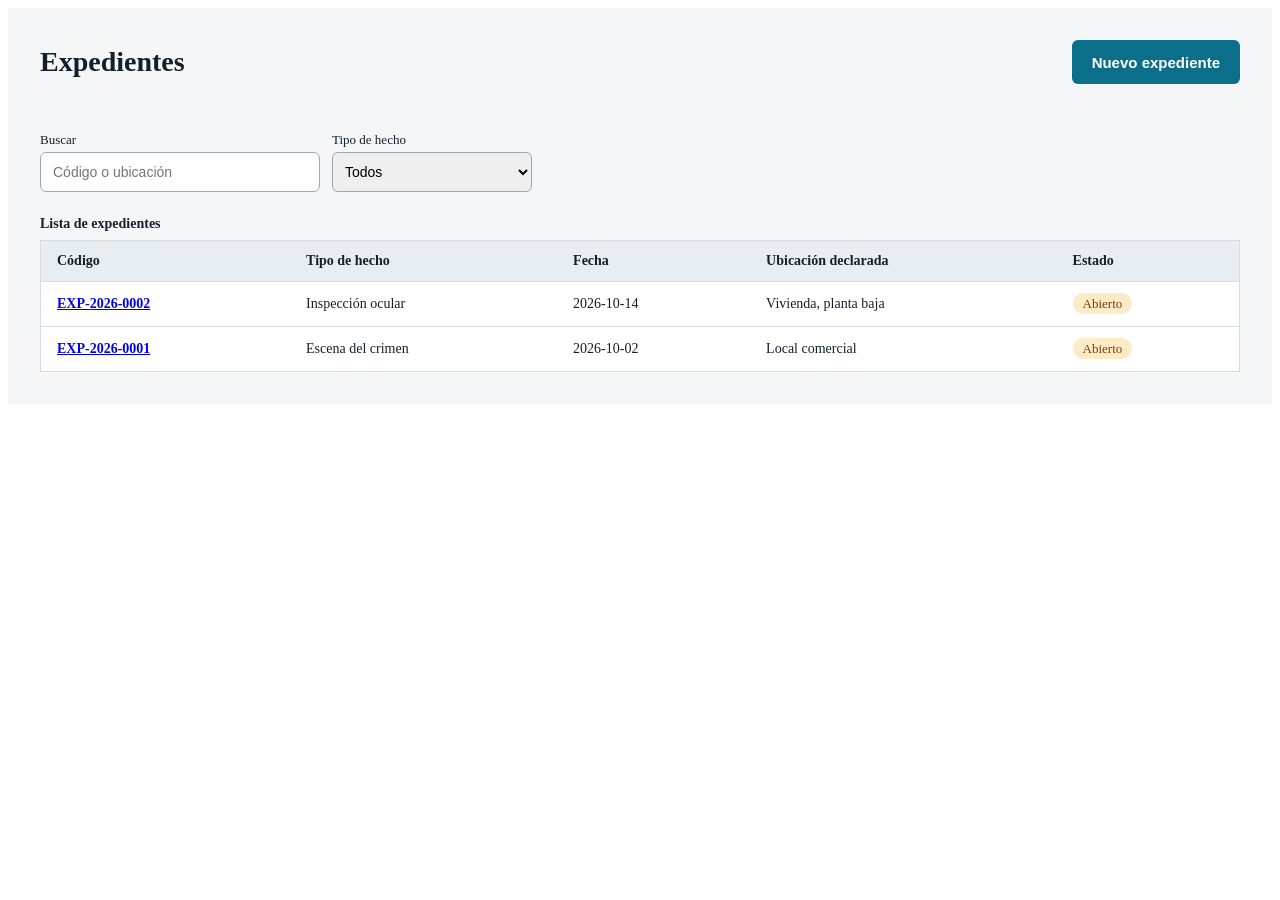
CaseListPage › creates a case and adds its row at the top with the returned code
This screenshot has width=1280, height=900.
Check: the table is shown, box [40, 216, 1240, 372]
Click the button "Nuevo expediente" at (1156, 62), box [1072, 40, 1240, 84]
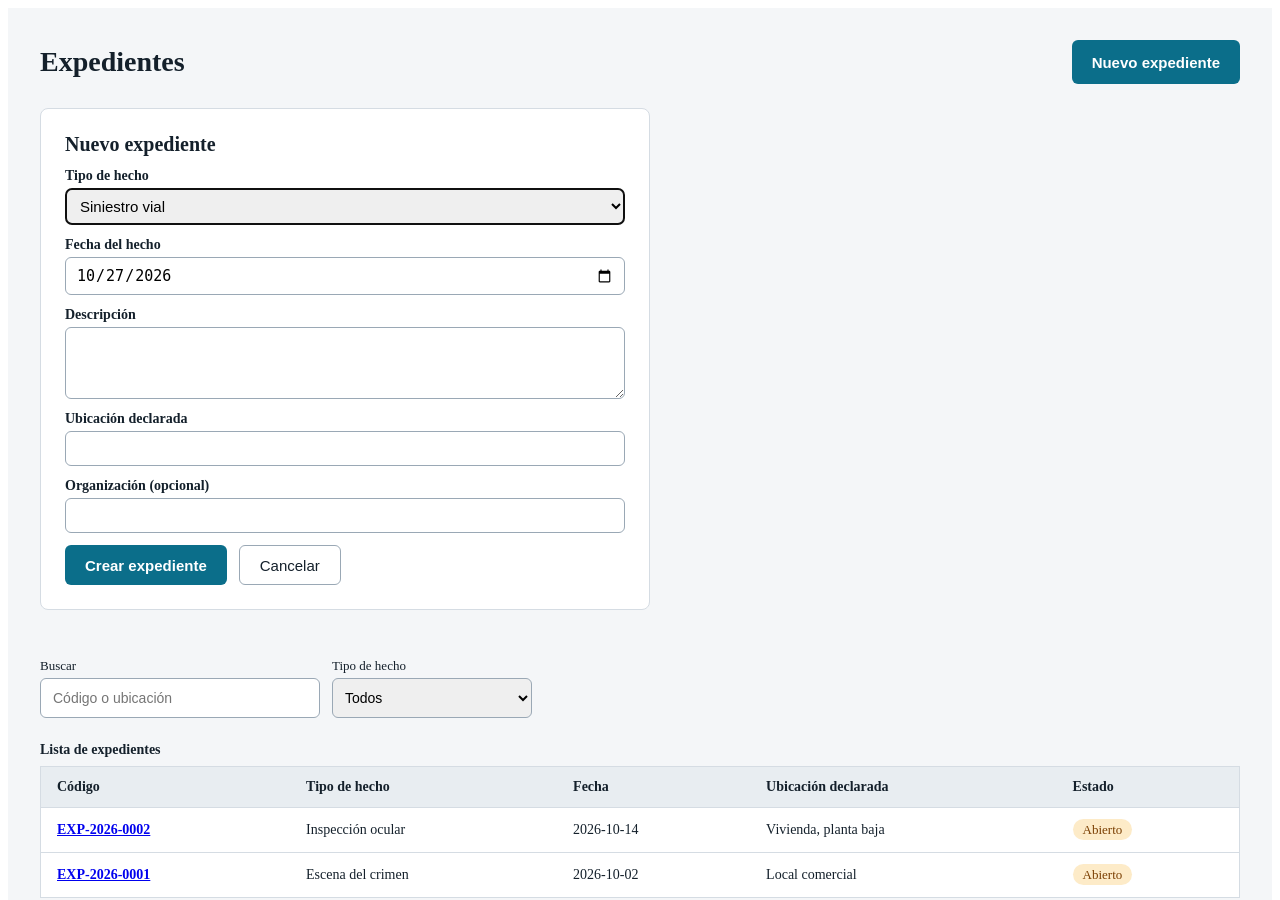
Check: the date field labelled "Fecha del hecho" holds "2026-10-27"
Type "2026-10-21" into the date field labelled "Fecha del hecho" at (345, 276), box [65, 257, 625, 295]
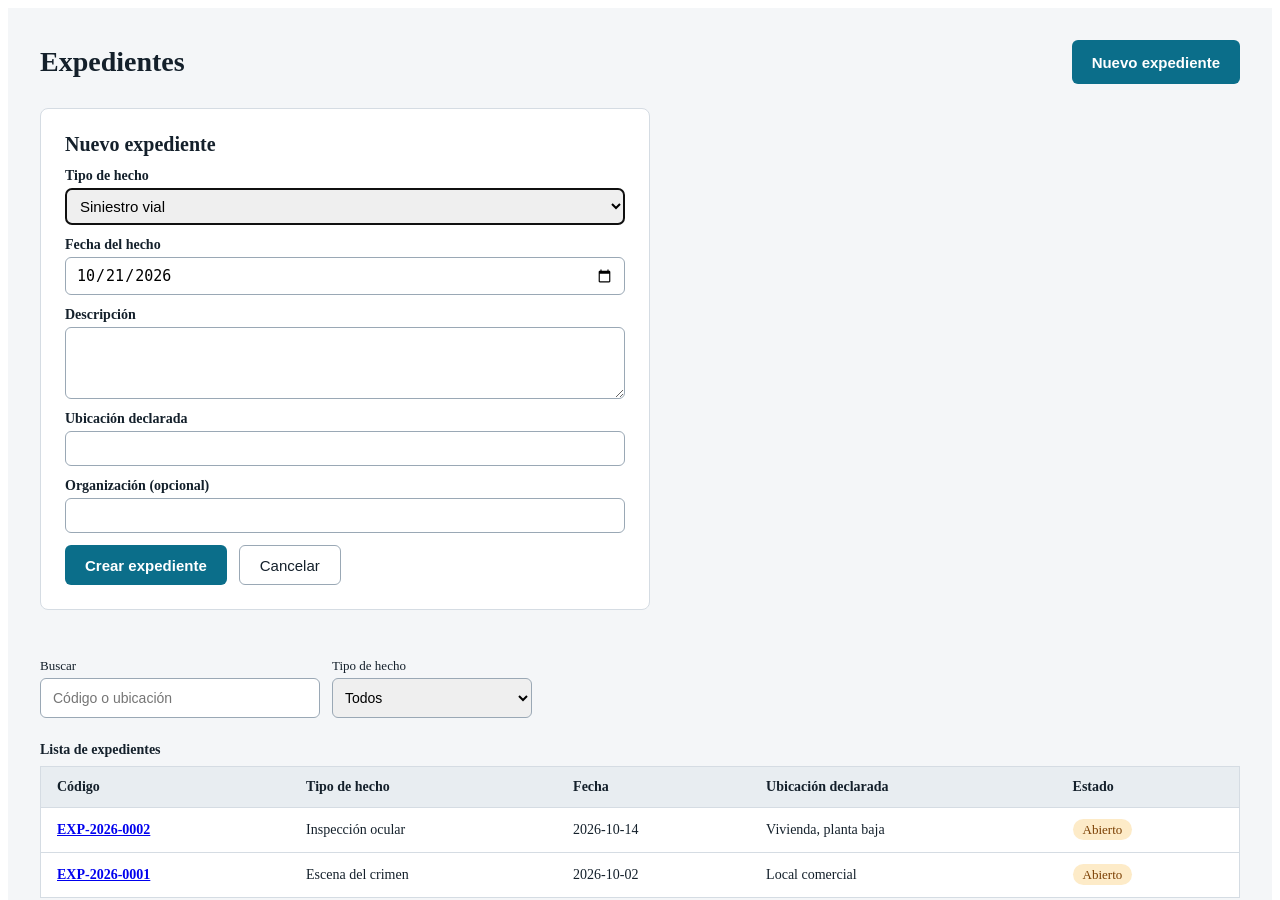
Type "Colisión entre dos vehículos" into the text box labelled "Descripción" at (345, 363), box [65, 327, 625, 399]
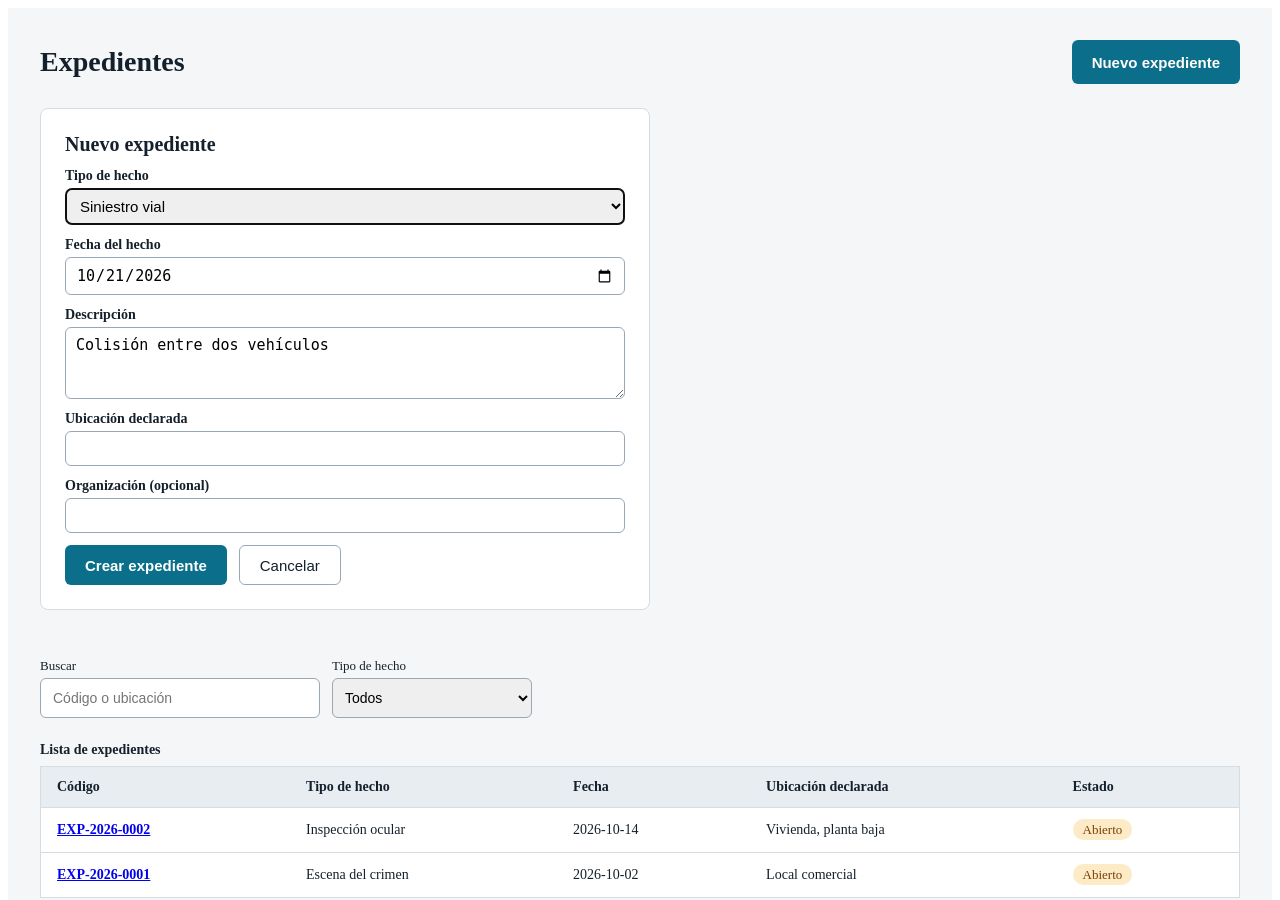
Type "Av. Principal y Calle 4" into the field labelled "Ubicación declarada" at (345, 448), box [65, 431, 625, 466]
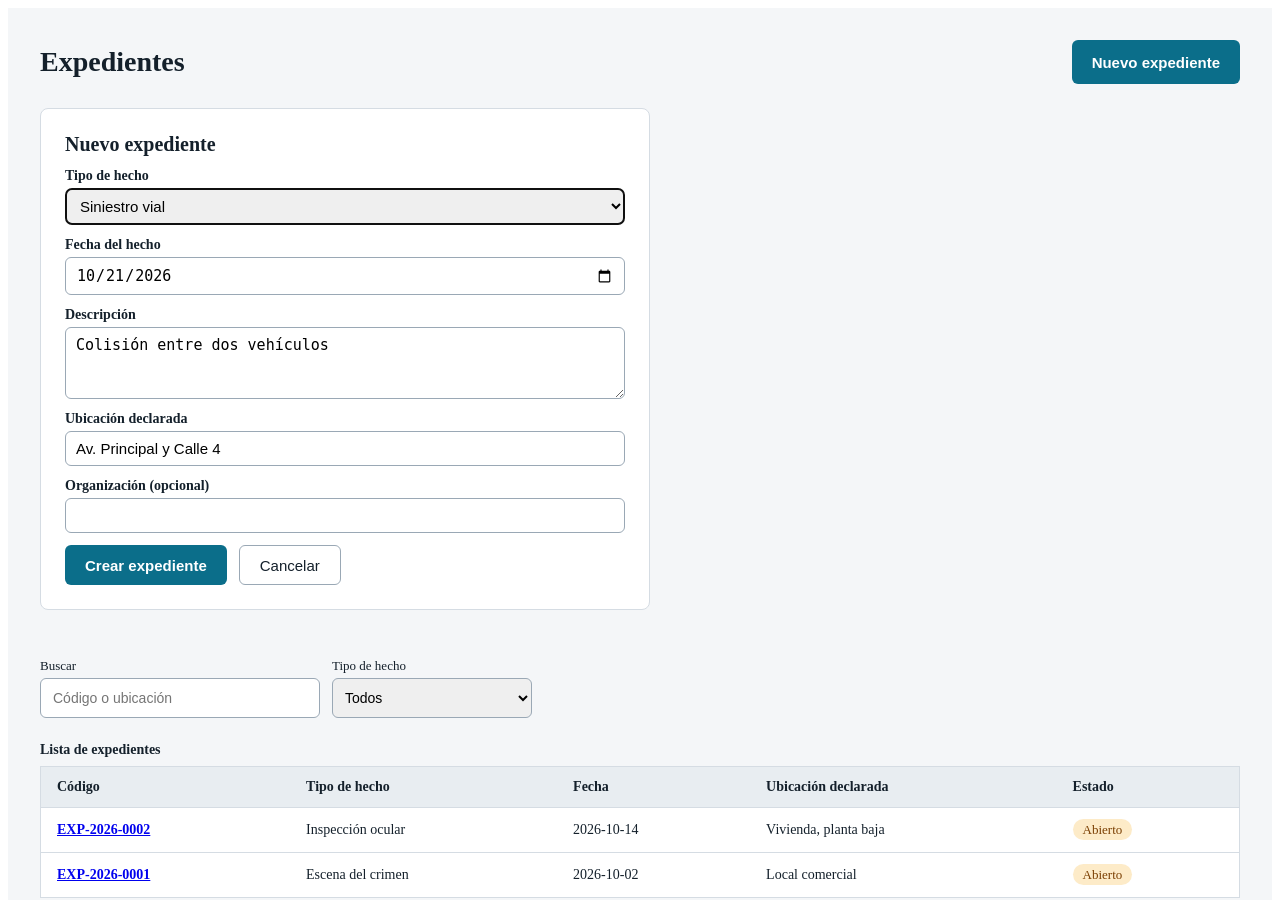
Click the button "Crear expediente" at (146, 565), box [65, 545, 227, 585]
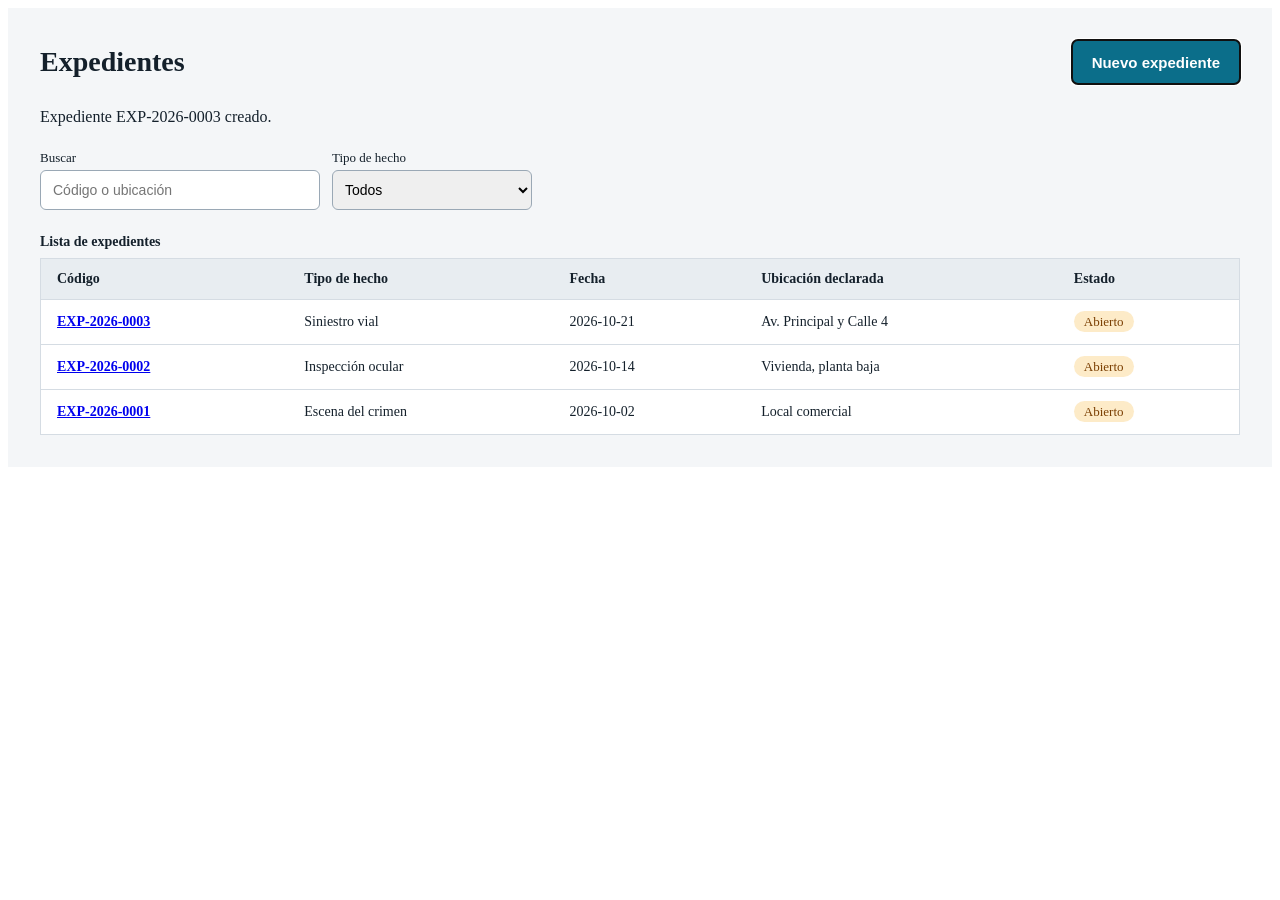
Check: the column heading "EXP-2026-0003" is shown, box [40, 300, 288, 344]
Check: the text "Expediente EXP-2026-0003 creado." is shown, box [40, 108, 272, 125]
